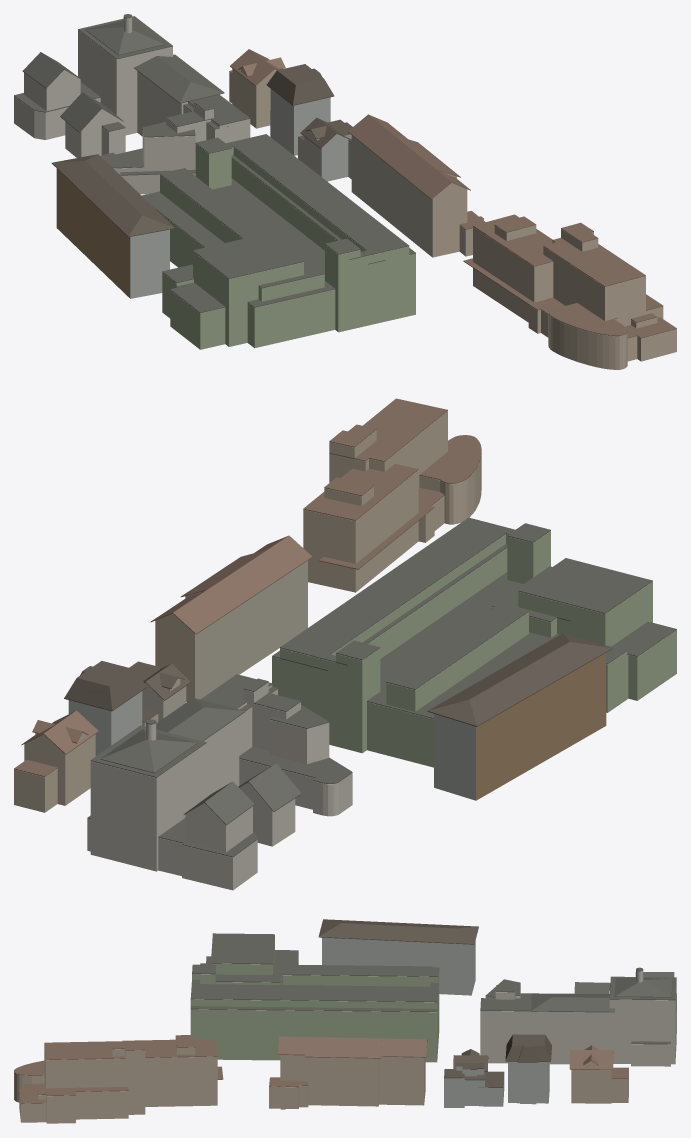
Rendered from architecture--180_0.glb.
The picture shows the model from 3 angles, top to bottom: view 1: azimuth 30°, elevation 25°; view 2: azimuth 150°, elevation 25°; view 3: azimuth 270°, elevation 25°; orthographic projection. The views are drawn at different scales.
Parts seen in each view (by area): view 1: architecture--180_0; view 2: architecture--180_0; view 3: architecture--180_0.
Boxes of the visible parts, x1,y1,x2,y2 form: architecture--180_0: [14, 14, 676, 369]; architecture--180_0: [14, 398, 676, 890]; architecture--180_0: [14, 919, 676, 1123].
Size of the model in its own units: 50.57 by 13.89 by 96.3.
